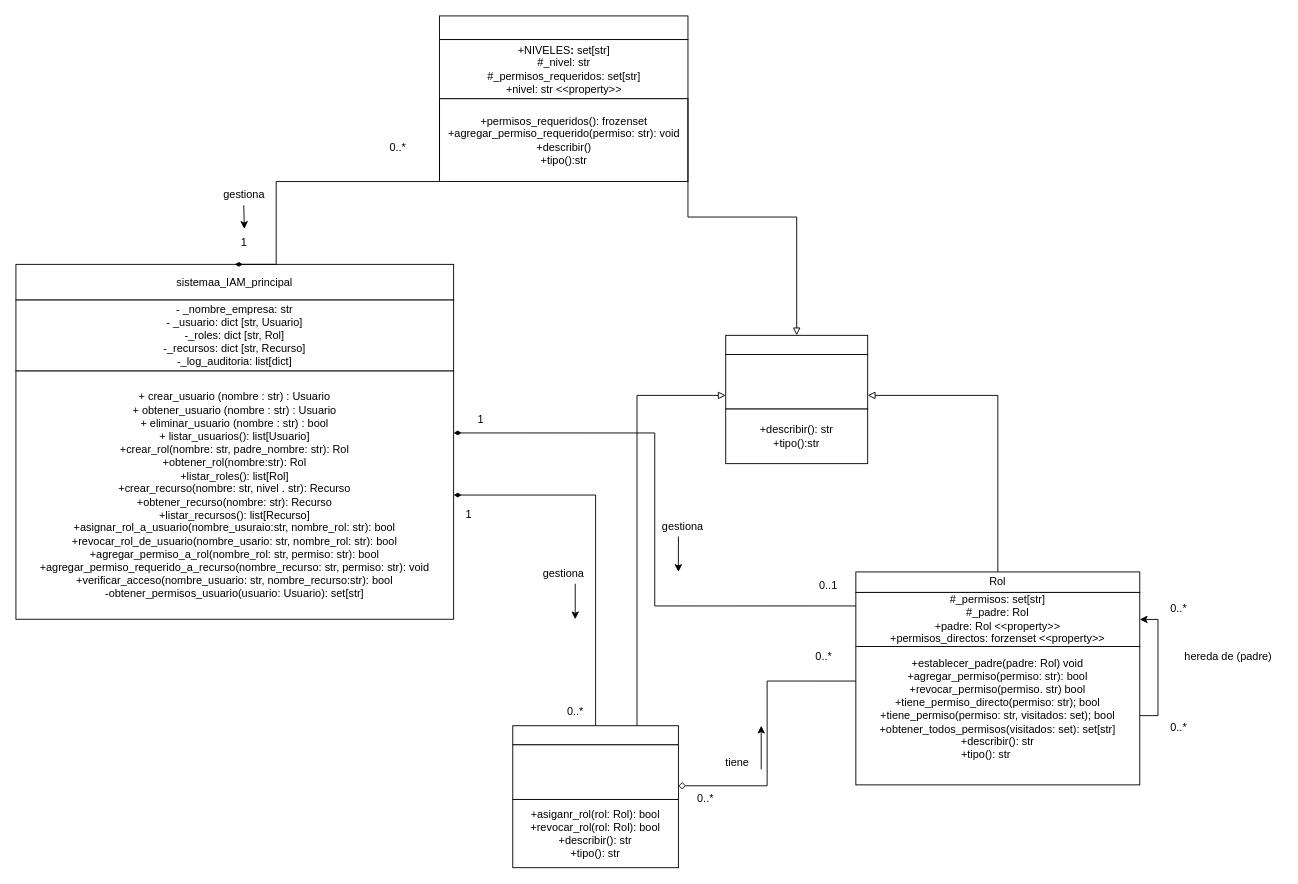
Some shapes in this 1298 by 884 pixel diagram are drawn without their labels. The shapes that lost their labels are listed below. From the top down, each one's centre as x and y in pixels, then its label:
At (x=563, y=27): "Recurso".
At (x=796, y=344): "Entidad".
At (x=796, y=381): "#_nombre: str +nombre:str <<property>>".
At (x=595, y=735): "Usuario".
At (x=595, y=771): "#_roles: set[Rol] +roles: frozenset <<property>>".
